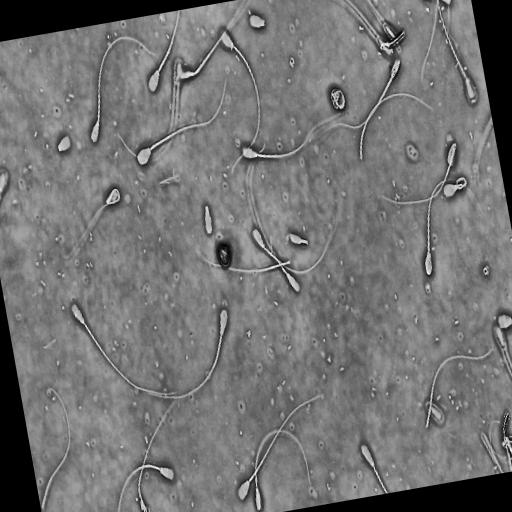coiled-tail: (64, 187, 120, 257), (301, 237, 307, 243)
dirt-particles: (213, 237, 234, 269), (328, 85, 346, 112), (481, 264, 489, 275)
folded-tail: (382, 143, 456, 203)
loose-head: (203, 200, 214, 237), (247, 10, 266, 31), (55, 132, 72, 155)
loose-tail: (423, 339, 497, 430), (358, 89, 436, 160), (136, 396, 181, 512), (40, 386, 73, 512), (200, 252, 293, 275)
normal: (69, 299, 180, 397), (236, 391, 324, 503), (88, 32, 160, 148), (135, 78, 227, 167), (147, 305, 230, 401), (218, 25, 261, 178), (325, 56, 402, 131), (423, 175, 475, 278), (379, 138, 457, 206), (62, 181, 124, 263), (253, 428, 312, 512), (436, 0, 478, 104), (250, 225, 331, 275), (117, 462, 176, 512), (146, 10, 180, 95), (240, 133, 312, 161), (442, 174, 468, 199), (287, 228, 310, 246)
